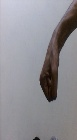hand: (38, 40, 59, 104)
